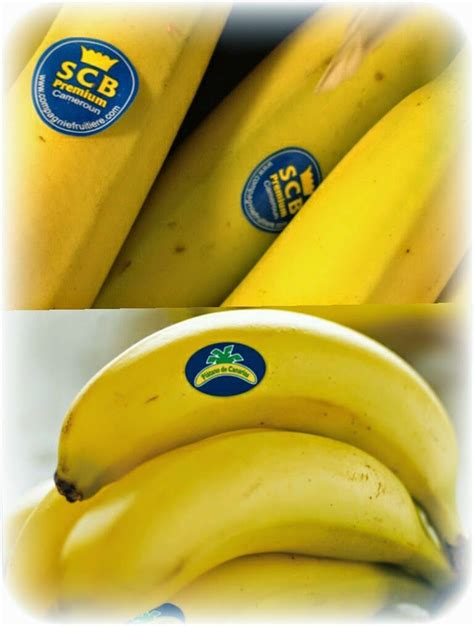banana: (53, 308, 473, 555)
